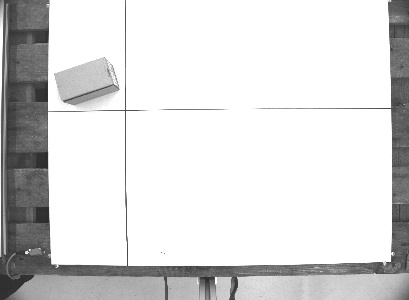b2: (52, 55, 121, 107)
